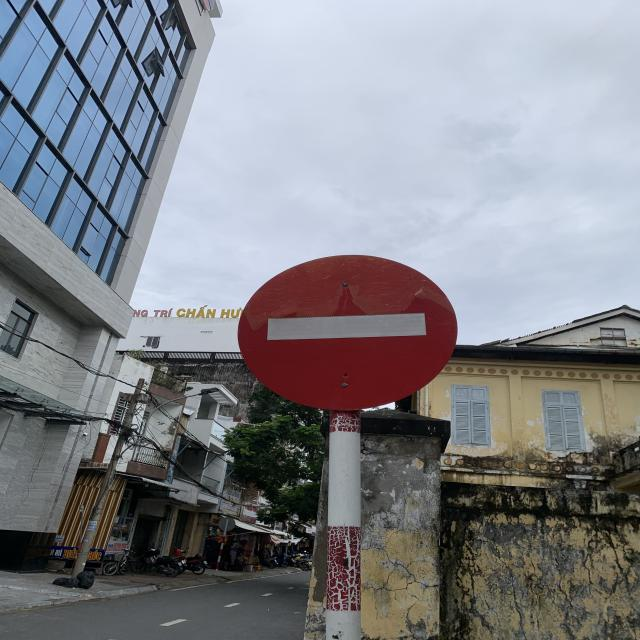Cam_Di_Nguoc_Chieu: (236, 253, 460, 411)
